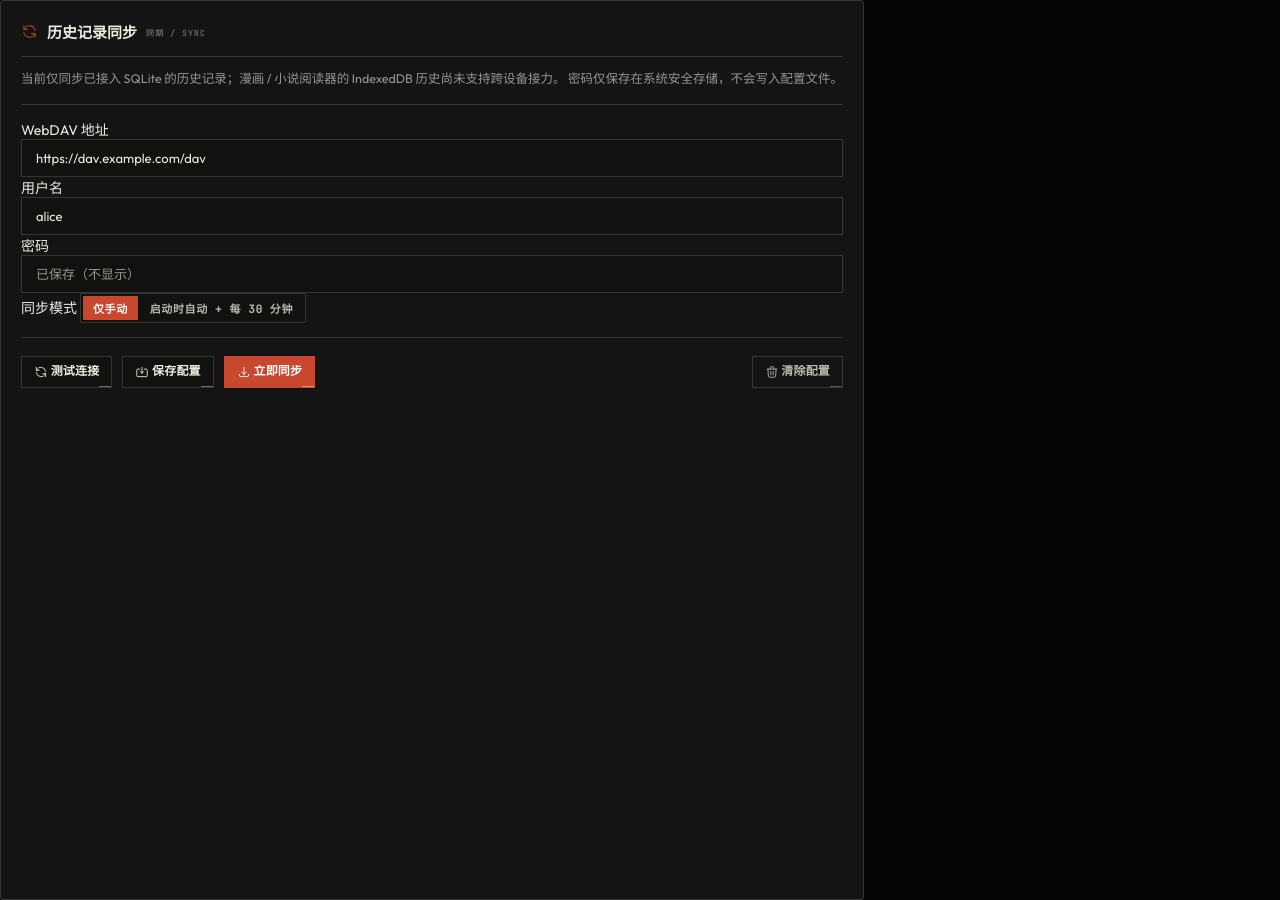
it: SyncSettings › 立即同步进行中时按钮禁用（含 loading）
Click the button "立即同步" at (270, 372), box [224,356,315,388]
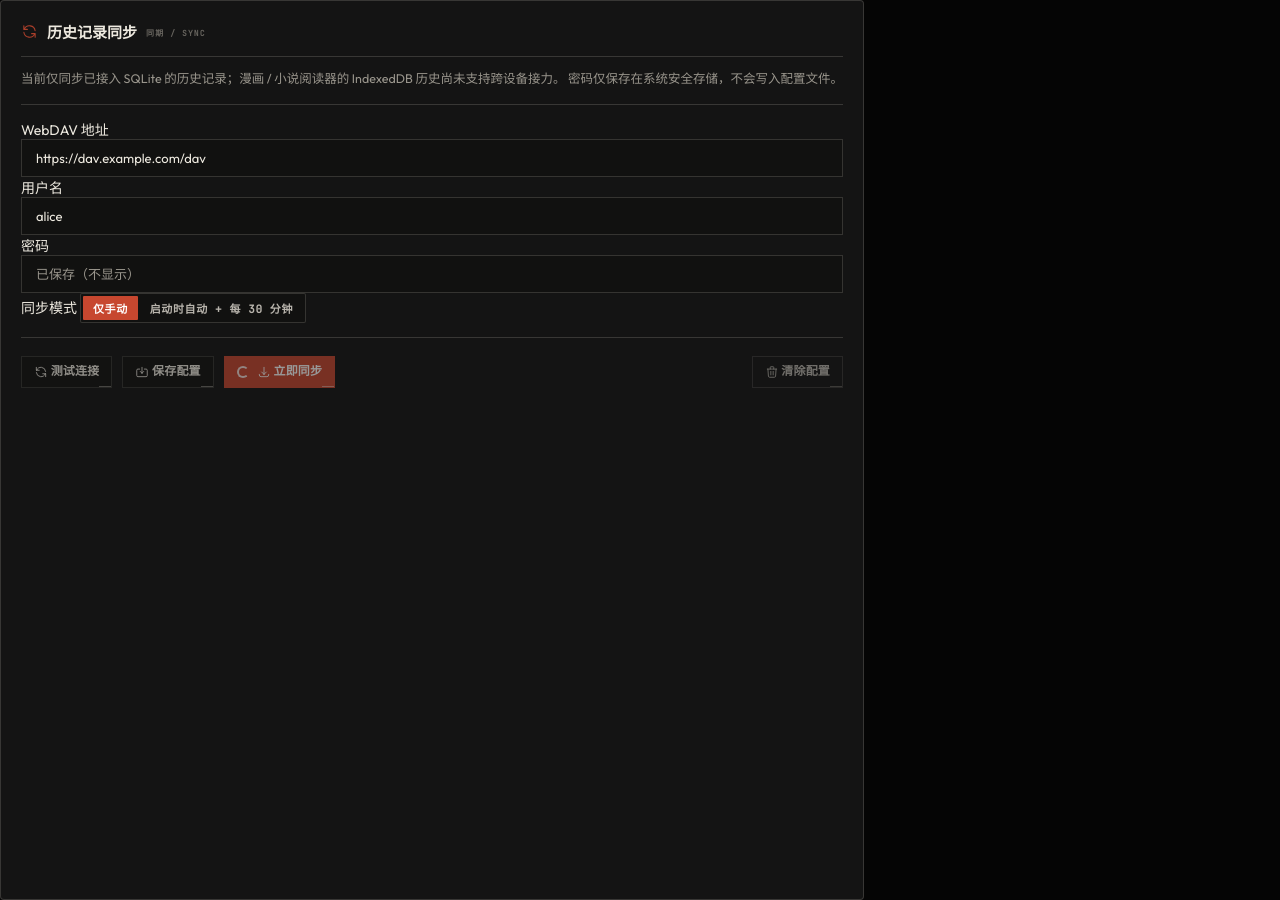
Now the button "立即同步" is disabled, box [224,356,335,388]
